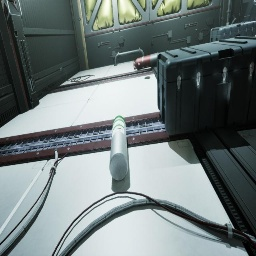0: (109, 115, 128, 181)
NitrogenTank ,: (133, 52, 159, 70)
SafetySwitchPanel ,: (242, 0, 253, 4)
